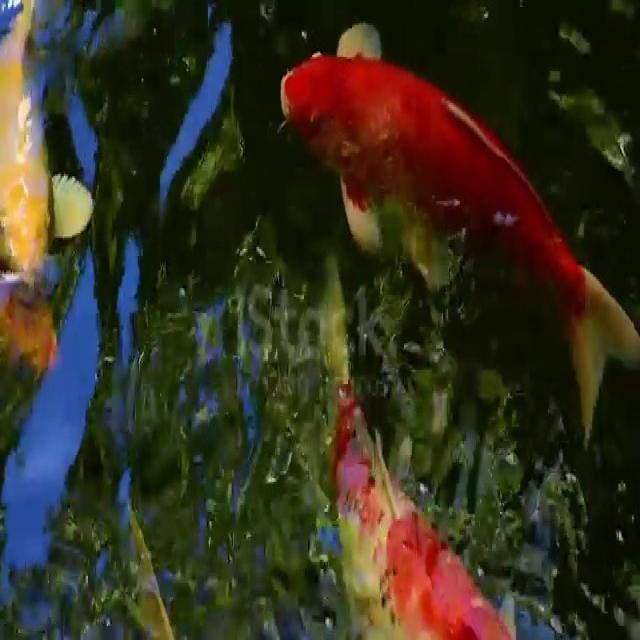fish: (274, 43, 640, 410), (272, 272, 525, 640), (0, 0, 96, 302), (0, 309, 83, 394)
